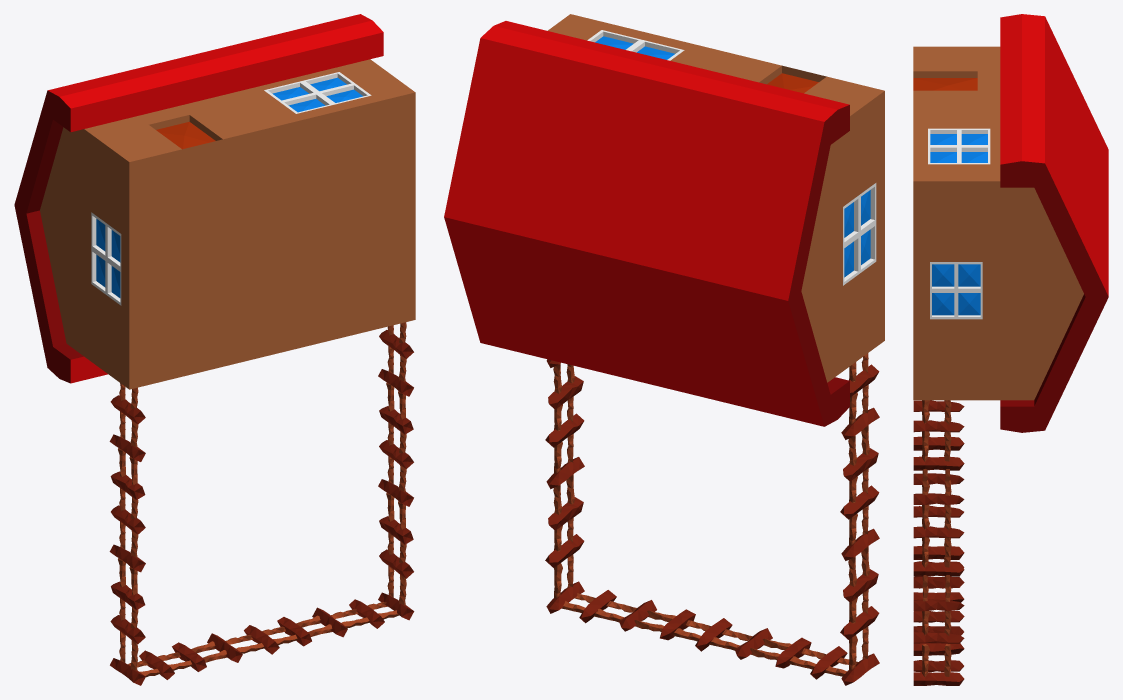
Rendered from house_with_fence.fbx.
3 renders of one model, left to right at view 1: azimuth 30°, elevation 25°; view 2: azimuth 150°, elevation 25°; view 3: azimuth 270°, elevation 25°, orthographic. The views are drawn at different scales.
Visible parts, largest first — view 1: fence; view 2: fence; view 3: fence.
Part boxes in pixels (x1=…): fence: x1=14, y1=14, x2=415, y2=685; fence: x1=444, y1=14, x2=884, y2=685; fence: x1=913, y1=14, x2=1108, y2=685.
Bounding box in the file's own units: 232 × 394 × 130.
